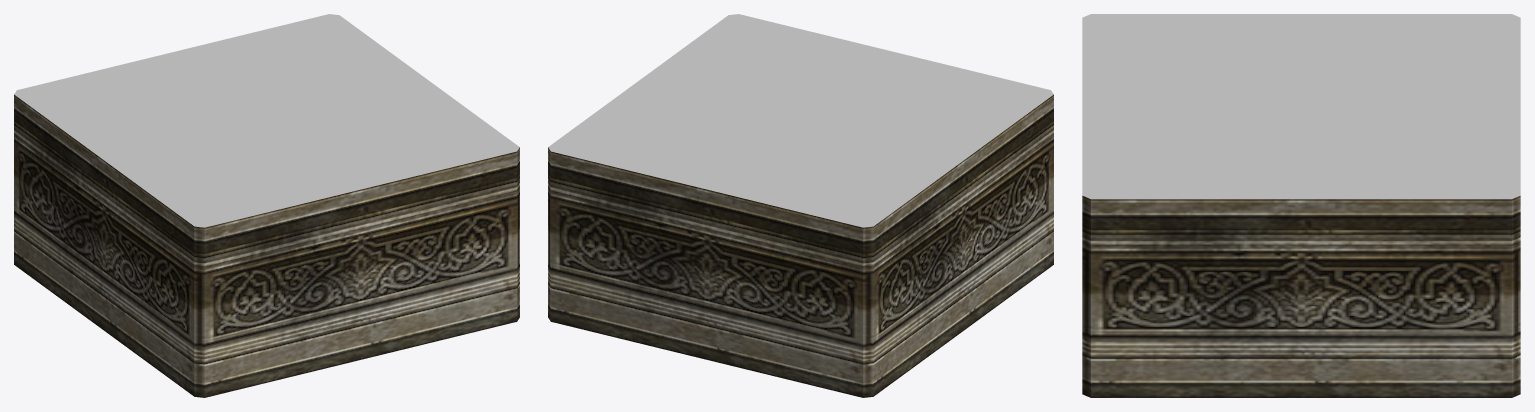
Rendered from dol_suksang_badark_fbx.FBX.
The picture shows the model from 3 angles, left to right: view 1: azimuth 30°, elevation 25°; view 2: azimuth 150°, elevation 25°; view 3: azimuth 270°, elevation 25°; orthographic projection. The views are drawn at different scales.
Parts seen in each view (by area): view 1: Box001; view 2: Box001; view 3: Box001.
Boxes of the visible parts, box(x1,y1,x2,y2) form: Box001: box(14, 14, 519, 397); Box001: box(548, 14, 1053, 397); Box001: box(1082, 14, 1520, 397).
Size of the model in its own units: 1 by 0.5 by 1.
